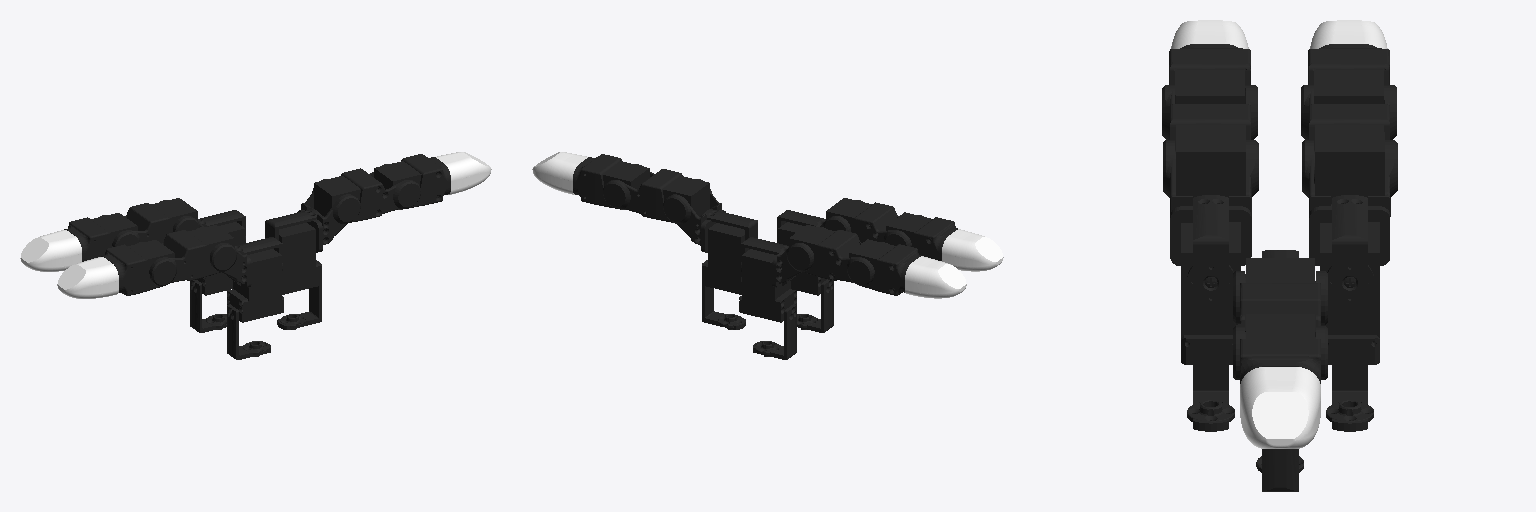
The robot description file, URDF, robot "delto_gripper_3f":
<?xml version="1.0" ?>

<robot name="delto_gripper_3f">

   <material name="silver">
      <color rgba="0.700 0.700 0.700 1.000"/>
   </material>

   <material name="black">
      <color rgba="0.196 0.196 0.196 1.0"/>
   </material>

   <material name="white">
      <color rgba="1.0 1.0 1.0 1.0"/>
   </material>

   <link name="delto_base_link">

      <inertial>
         <origin xyz="0.00045499721796859983 -2.051648304165415e-06 -0.05218562175888181" rpy="5.671320207730568e-06 0.0032948722942074404 -0.00044870150924543735"/>
         <mass value="0.370"/>
         <inertia ixx="0.0009935903471030175" iyy="0.000980251548061173" izz="0.0003178199035240808" ixy="0" ixz="0" iyz="0"/>
      </inertial>

      <visual name="delto_base_link">
         <origin xyz="0.00045499721796859983 -2.051648304165415e-06 -0.05218562175888181" rpy="5.671320207730568e-06 0.0032948722942074404 -0.00044870150924543735"/>
         <geometry>
            <mesh filename="package://delto_3f_description/meshes/delto_base_link.stl"/>
         </geometry>
         <material name="black"/>
      </visual>

      <collision>
         <origin xyz="0.00045499721796859983 -2.051648304165415e-06 -0.05218562175888181" rpy="5.671320207730568e-06 0.0032948722942074404 -0.00044870150924543735"/>
         <geometry>
            <mesh filename="package://delto_3f_description/meshes/delto_base_link.stl"/>
         </geometry>
      </collision>

   </link>


   <link name="F1_01">

      <inertial>
         <origin xyz="0.0003906 3.121e-08 -0.014" rpy= "-0.17662368646091148 -1.9303231388878572e-06 1.5707855116626381"/>
         <mass value="0.061"/>
         <inertia ixx="1.924000000025899e-05" iyy="1.709411627342488e-05" izz="5.9478837263161295e-06" ixy="0" ixz="0" iyz="0"/>
      </inertial>

      <visual name="F1_01">
         <origin xyz="0.0018977016221143523 -1.0017682763976983e-06 -0.022983822146236326" rpy="-0.1443920950720977 1.9855029389503898e-05 1.5709191233325221"/>
         <geometry>
            <mesh filename="package://delto_3f_description/meshes/link_01.stl"/>
         </geometry>
         <material name="black"/>
      </visual>
      
      <collision>
         <origin xyz="0.0018977016221143523 -1.0017682763976983e-06 -0.022983822146236326" rpy="-0.1443920950720977 1.9855029389503898e-05 1.5709191233325221"/>
         <geometry>
            <mesh filename="package://delto_3f_description/meshes/link_01.stl"/>
         </geometry>
      </collision> 

   </link>

   <link name="F1_02">

      <inertial>
         <origin xyz="0.01 3.444e-06 0.016" rpy="-0.0036890516412144943 0.31688564121750695 -0.0027736178951144786"/>
         <mass value="0.025"/>
         <inertia ixx="7.164797732610912e-06" iyy="6.31301833122199e-06" izz="3.274183936167101e-06" ixy="0" ixz="0" iyz="0"/>
      </inertial>

      <visual name="F1_02">
         <origin xyz="0.010322007813576017 0.000267674195662055 0.013590600703218703" rpy="-0.03118104794815292 0.3757385725887219 -0.024334342208719002"/>
         <geometry>
            <mesh filename="package://delto_3f_description/meshes/link_02.stl"/>
         </geometry>
         <material name="black"/>
      </visual>

      <collision>
         <origin xyz="0.010322007813576017 0.000267674195662055 0.013590600703218703" rpy="-0.03118104794815292 0.3757385725887219 -0.024334342208719002"/>
         <geometry>
            <mesh filename="package://delto_3f_description/meshes/link_02.stl"/>
         </geometry>
      </collision>
   </link>

   <link name="F1_03">

      <inertial>
         <origin xyz="0.014 -0.0004527 -3.953e-05" rpy="1.5651066808062148 -0.0008576993469346927 1.5562600280492769"/>
         <mass value="0.051"/>
         <inertia ixx="1.6912201686125405e-05" iyy="1.4940271596370447e-05" izz="6.505526717504149e-06" ixy="0" ixz="0" iyz="0"/>
      </inertial>

      <visual name="link_03">
         <origin xyz="0.019034639558839914 -0.0007611783816217545 0.00015734818842133856" rpy="1.5405533073968862 -0.0023628127138719535 1.5994547590929262"/>
         <geometry>
            <mesh filename="package://delto_3f_description/meshes/link_03.stl"/>
         </geometry>
         <material name="black"/>
      </visual>

      <collision>
         <origin xyz="0.019034639558839914 -0.0007611783816217545 0.00015734818842133856" rpy="1.5405533073968862 -0.0023628127138719535 1.5994547590929262"/>
         <geometry>
            <mesh filename="package://delto_3f_description/meshes/link_03.stl"/>
         </geometry>
      </collision>

   </link>

   <link name="F1_04">
      <inertial>
         <origin xyz="0.012 -0.0002269 -4.676e-05" rpy="1.5668480451228681 -0.0008686188531681349 1.5829731507939977"/>
         <mass value="0.058"/>
         <inertia ixx="1.0860820276783573e-05" iyy="9.902070548178027e-06" izz="5.330109175038405e-06" ixy="0" ixz="0" iyz="0"/>
      </inertial>

      <visual name="link_04">
         <origin xyz="0.011992289866897352 -0.0007726988011287212 -5.201111709052532e-06" rpy="1.5745317514920234 0.003601150001683928 1.6650413701206925"/>
         <geometry>
            <mesh filename="package://delto_3f_description/meshes/link_04.stl"/>
         </geometry>
         <material name="black"/>
      </visual>

      <collision>
         <origin xyz="0.011992289866897352 -0.0007726988011287212 -5.201111709052532e-06" rpy="1.5745317514920234 0.003601150001683928 1.6650413701206925"/>
         <geometry>
            <mesh filename="package://delto_3f_description/meshes/link_04.stl"/>
         </geometry>
      </collision>

   </link>

   <link name="F1_TIP">
      <inertial>
         <origin xyz="0.045 -0.000436 -7.22e-08" rpy="1.5708008179564292 -3.695361794919805e-05 1.5210948927815267"/>
         <mass value="0.013"/>
         <inertia ixx="1.5965708653714455e-06" iyy="1.2999999996018677e-06" izz="9.60129135026688e-07" ixy="0" ixz="0" iyz="0"/>
      </inertial>

      <visual name="link_tip_high">
         <origin xyz="0.044959448417087294 -0.0004226309811080281 2.3018946871860735e-07" rpy="1.5708745579876908 -1.019986385419891e-05 1.5204133624130758"/>
         <geometry>
            <mesh filename="package://delto_3f_description/meshes/link_tip_high.stl"/>
         </geometry>
         <material name="white"/>
      </visual>

      <collision>
         <origin xyz="0.044959448417087294 -0.0004226309811080281 2.3018946871860735e-07" rpy="1.5708745579876908 -1.019986385419891e-05 1.5204133624130758"/>
         <geometry>
            <mesh filename="package://delto_3f_description/meshes/link_tip_high.stl"/>
         </geometry>
      </collision>
   </link>

   <link name="F2_01">
      <inertial>
         <origin xyz="0.0003906 3.121e-08 -0.014" rpy="-0.17662368646091148 -1.9303231388878572e-06 1.5707855116626381"/>
         <mass value="0.061"/>
         <inertia ixx="1.924000000025899e-05" iyy="1.709411627342488e-05" izz="5.9478837263161295e-06" ixy="0" ixz="0" iyz="0"/>
      </inertial>

      <visual name="F2_01">
         <origin xyz="0.0018977016221143523 -1.0017682763976983e-06 -0.022983822146236326" rpy="-0.1443920950720977 1.9855029389503898e-05 1.5709191233325221"/>
         <geometry>
            <mesh filename="package://delto_3f_description/meshes/link_01.stl"/>
         </geometry>
         <material name="black"/>
      </visual>

      <collision>
         <origin xyz="0.0018977016221143523 -1.0017682763976983e-06 -0.022983822146236326" rpy="-0.1443920950720977 1.9855029389503898e-05 1.5709191233325221"/>
         <geometry>
            <mesh filename="package://delto_3f_description/meshes/link_01.stl"/>
         </geometry>
      </collision>

   </link>

   <link name="F2_02">
      <inertial>
         <origin xyz="0.01 3.444e-06 0.016" rpy="-0.0036890516412144943 0.31688564121750695 -0.0027736178951144786"/>
         <mass value="0.025"/>
         <inertia ixx="7.164797732610912e-06" iyy="6.31301833122199e-06" izz="3.274183936167101e-06" ixy="0" ixz="0" iyz="0"/>
      </inertial>

      <visual name="link_02">
         <origin xyz="0.010322007813576017 0.000267674195662055 0.013590600703218703" rpy="-0.03118104794815292 0.3757385725887219 -0.024334342208719002"/>
         <geometry>
            <mesh filename="package://delto_3f_description/meshes/link_02.stl"/>
         </geometry>
         <material name="black"/>
      </visual>

      <collision>
         <origin xyz="0.010322007813576017 0.000267674195662055 0.013590600703218703" rpy="-0.03118104794815292 0.3757385725887219 -0.024334342208719002"/>
         <geometry>
            <mesh filename="package://delto_3f_description/meshes/link_02.stl"/>
         </geometry>
      </collision>

   </link>

   <link name="F2_03">
   
      <inertial>
         <origin xyz="0.014 -0.0004527 -3.953e-05" rpy="1.5651066808062148 -0.0008576993469346927 1.5562600280492769"/>
         <mass value="0.051"/>
         <inertia ixx="1.6912201686125405e-05" iyy="1.4940271596370447e-05" izz="6.505526717504149e-06" ixy="0" ixz="0" iyz="0"/>
      </inertial>

      <visual name="link_03">
         <origin xyz="0.019034639558839914 -0.0007611783816217545 0.00015734818842133856" rpy="1.5405533073968862 -0.0023628127138719535 1.5994547590929262"/>
         <geometry>
            <mesh filename="package://delto_3f_description/meshes/link_03.stl"/>
         </geometry>
         <material name="black"/>
      </visual>


      <collision>
         <origin xyz="0.019034639558839914 -0.0007611783816217545 0.00015734818842133856" rpy="1.5405533073968862 -0.0023628127138719535 1.5994547590929262"/>
         <geometry>
            <mesh filename="package://delto_3f_description/meshes/link_03.stl"/>
         </geometry>
      </collision>

   </link>

   <link name="F2_04">
      <inertial>
         <origin xyz="0.012 -0.0002269 -4.676e-05" rpy="1.5668480451228681 -0.0008686188531681349 1.5829731507939977"/>
         <mass value="0.058"/>
         <inertia ixx="1.0860820276783573e-05" iyy="9.902070548178027e-06" izz="5.330109175038405e-06" ixy="0" ixz="0" iyz="0"/>
      </inertial>

      <visual name="link_04">
         <origin xyz="0.011992289866897352 -0.0007726988011287212 -5.201111709052532e-06" rpy="1.5745317514920234 0.003601150001683928 1.6650413701206925"/>
         <geometry>
            <mesh filename="package://delto_3f_description/meshes/link_04.stl"/>
         </geometry>
         <material name="black"/>
      </visual>

      <collision>
         <origin xyz="0.011992289866897352 -0.0007726988011287212 -5.201111709052532e-06" rpy="1.5745317514920234 0.003601150001683928 1.6650413701206925"/>
         <geometry>
            <mesh filename="package://delto_3f_description/meshes/link_04.stl"/>
         </geometry>
      </collision>
   </link>


   <link name="F2_TIP">
      <inertial>
         <origin xyz="0.045 -0.000436 -7.22e-08" rpy="1.5708008179564292 -3.695361794919805e-05 1.5210948927815267"/>
         <mass value="0.013"/>
         <inertia ixx="1.5965708653714455e-06" iyy="1.2999999996018677e-06" izz="9.60129135026688e-07" ixy="0" ixz="0" iyz="0"/>
      </inertial>

      <visual name="link_tip_high">
         <origin xyz="0.044959448417087294 -0.0004226309811080281 2.3018946871860735e-07" rpy="1.5708745579876908 -1.019986385419891e-05 1.5204133624130758"/>
         <geometry>
            <mesh filename="package://delto_3f_description/meshes/link_tip_high.stl"/>
         </geometry>
         <material name="white"/>
      </visual>

      <collision>
      <origin xyz="0.044959448417087294 -0.0004226309811080281 2.3018946871860735e-07" rpy="1.5708745579876908 -1.019986385419891e-05 1.5204133624130758"/>
         <geometry>
            <mesh filename="package://delto_3f_description/meshes/link_tip_high.stl"/>
         </geometry>
      </collision>
   </link>

   <link name="F3_01">
      <inertial>
         <origin xyz="0.0003906 3.121e-08 -0.014" rpy="-0.17662368646091148 -1.9303231388878572e-06 1.5707855116626381"/>
         <mass value="0.061"/>
         <inertia ixx="1.924000000025899e-05" iyy="1.709411627342488e-05" izz="5.9478837263161295e-06" ixy="0" ixz="0" iyz="0"/>
      </inertial>

      <visual name="link_01">
         <origin xyz="0.0018977016221143523 -1.0017682763976983e-06 -0.022983822146236326" rpy="-0.1443920950720977 1.9855029389503898e-05 1.5709191233325221"/>
         <geometry>
            <mesh filename="package://delto_3f_description/meshes/link_01.stl"/>
         </geometry>
         <material name="black"/>
      </visual>

      <collision>
      <origin xyz="0.0018977016221143523 -1.0017682763976983e-06 -0.022983822146236326" rpy="-0.1443920950720977 1.9855029389503898e-05 1.5709191233325221"/>
         <geometry>
            <mesh filename="package://delto_3f_description/meshes/link_01.stl"/>
         </geometry>
      </collision>
   </link>
   
   <link name="F3_02">
      <inertial>
         <origin xyz="0.01 3.444e-06 0.016" rpy="-0.0036890516412144943 0.31688564121750695 -0.0027736178951144786"/>
         <mass value="0.025"/>
         <inertia ixx="7.164797732610912e-06" iyy="6.31301833122199e-06" izz="3.274183936167101e-06" ixy="0" ixz="0" iyz="0"/>
      </inertial>
      <visual name="link_02">
         <origin xyz="0.010322007813576017 0.000267674195662055 0.013590600703218703" rpy="-0.03118104794815292 0.3757385725887219 -0.024334342208719002"/>
         <geometry>
            <mesh filename="package://delto_3f_description/meshes/link_02.stl"/>
         </geometry>
         <material name="black"/>
      </visual>

      <collision>
         <origin xyz="0.010322007813576017 0.000267674195662055 0.013590600703218703" rpy="-0.03118104794815292 0.3757385725887219 -0.024334342208719002"/>
         <geometry>
            <mesh filename="package://delto_3f_description/meshes/link_02.stl"/>
         </geometry>
      </collision>

   </link>

   <link name="F3_03">
      <inertial>
         <origin xyz="0.014 -0.0004527 -3.953e-05" rpy="1.5651066808062148 -0.0008576993469346927 1.5562600280492769"/>
         <mass value="0.051"/>
         <inertia ixx="1.6912201686125405e-05" iyy="1.4940271596370447e-05" izz="6.505526717504149e-06" ixy="0" ixz="0" iyz="0"/>
      </inertial>
      <visual name="link_03">
         <origin xyz="0.019034639558839914 -0.0007611783816217545 0.00015734818842133856" rpy="1.5405533073968862 -0.0023628127138719535 1.5994547590929262"/>
         <geometry>
            <mesh filename="package://delto_3f_description/meshes/link_03.stl"/>
         </geometry>
         <material name="black"/>
      </visual>

      <collision>
         <origin xyz="0.019034639558839914 -0.0007611783816217545 0.00015734818842133856" rpy="1.5405533073968862 -0.0023628127138719535 1.5994547590929262"/>
         <geometry>
            <mesh filename="package://delto_3f_description/meshes/link_03.stl"/>
         </geometry>
      </collision>

   </link>

   <link name="F3_04">
      <inertial>
         <origin xyz="0.012 -0.0002269 -4.676e-05" rpy="1.5668480451228681 -0.0008686188531681349 1.5829731507939977"/>
         <mass value="0.058"/>
         <inertia ixx="1.0860820276783573e-05" iyy="9.902070548178027e-06" izz="5.330109175038405e-06" ixy="0" ixz="0" iyz="0"/>
      </inertial>
      <visual name="link_04">
         <origin xyz="0.011992289866897352 -0.0007726988011287212 -5.201111709052532e-06" rpy="1.5745317514920234 0.003601150001683928 1.6650413701206925"/>
         <geometry>
            <mesh filename="package://delto_3f_description/meshes/link_04.stl"/>
         </geometry>
         <material name="black"/>
      </visual>

      <collision>
      <origin xyz="0.011992289866897352 -0.0007726988011287212 -5.201111709052532e-06" rpy="1.5745317514920234 0.003601150001683928 1.6650413701206925"/>
         <geometry>
            <mesh filename="package://delto_3f_description/meshes/link_04.stl"/>
         </geometry>
      </collision>

   </link>


   <link name="F3_TIP">
      <inertial>
         <origin xyz="0.045 -0.000436 -7.22e-08" rpy="1.5708008179564292 -3.695361794919805e-05 1.5210948927815267"/>
         <mass value="0.013"/>
         <inertia ixx="1.5965708653714455e-06" iyy="1.2999999996018677e-06" izz="9.60129135026688e-07" ixy="0" ixz="0" iyz="0"/>
      </inertial>
      <visual name="link_tip_high">
         <origin xyz="0.044959448417087294 -0.0004226309811080281 2.3018946871860735e-07" rpy="1.5708745579876908 -1.019986385419891e-05 1.5204133624130758"/>
         <geometry>
            <mesh filename="package://delto_3f_description/meshes/link_tip_high.stl"/>
         </geometry>
         <material name="white"/>
      </visual>

      <collision>
         <origin xyz="0.044959448417087294 -0.0004226309811080281 2.3018946871860735e-07" rpy="1.5708745579876908 -1.019986385419891e-05 1.5204133624130758"/>
         <geometry>
            <mesh filename="package://delto_3f_description/meshes/link_tip_high.stl"/>
         </geometry>
      </collision>

   </link>

   <!--Joint -->

   <joint name = "F1M1" type = "revolute">
      <origin xyz="0.0265 0.0 0.0" rpy="0 0 0"/>
      <parent link="delto_base_link"/>
      <child link="F1_01"/>
      <axis xyz="0.0 0.0 1.0"/>
      <limit effort="10.0" velocity="5.0" lower="-1.0472" upper="1.0472" />
      <dynamics damping="1.1" friction="1.1"/>
   </joint>

   <joint name = "F1M2" type = "revolute">
      <origin xyz="0.0 0.0 0.0" rpy="-3.1415926207728213 -1.570796290294655 0.0"/>
      <parent link="F1_01"/>
      <child link="F1_02"/>
      <axis xyz="0.0 0.0 1.0"/>
      <limit effort="10.0" velocity="5.0" lower="-1.76278" upper="1.76278" />
      <dynamics damping="1.1" friction="1.1"/>
   </joint>

   <joint name = "F1M3" type = "revolute">
      <origin xyz="0.02022 0.0 0.03136" rpy="-1.5707963295583207 -1.5707963267948966 0.0"/>
      <parent link="F1_02"/>
      <child link="F1_03"/>
      <axis xyz="0.0 0.0 1.0"/>
      <limit effort="10.0" velocity="5.0" lower="-0.15708" upper="2.53073" />
      <dynamics damping="1.1" friction="1.1"/>
   </joint>

   <joint name = "F1M4" type = "revolute">
      <origin xyz="0.0434 0.0 0.0" rpy="0 0 0"/>
      <parent link="F1_03"/>
      <child link="F1_04"/>
      <axis xyz="0.0 0.0 1.0"/>
      <limit effort="10.0" velocity="5.0" lower="-0.226893" upper="2.02458"/>
      <dynamics damping="1.1" friction="1.1"/>
   </joint>

   <joint name = "TIP1" type="fixed">
      <origin xyz="0.0 0.0 0.0" rpy="0 0 0"/>
      <parent link="F1_04"/>
      <child link="F1_TIP"/>
   </joint>

   <!-- FINGER 2-->

   <joint name = "F2M1" type = "revolute">
      <origin xyz="-0.01334 0.023 0.0" rpy="0 0 -3.14"/>
      <parent link="delto_base_link"/>
      <child link="F2_01"/>
      <axis xyz="0.0 0.0 1.0"/>
      <limit effort="10.0" velocity="5.0" lower="-1.91986" upper="0.139626" />
      <dynamics damping="1.1" friction="1.1"/>
   </joint>

   <joint name = "F2M2" type = "revolute">
      <origin xyz="0.0 0.0 0.0" rpy="-3.14 -1.57 0"/>
      <parent link="F2_01"/>
      <child link="F2_02"/>
      <axis xyz="0.0 0.0 1.0"/>
      <limit effort="10.0" velocity="5.0" lower="-1.76278" upper="1.76278" />
      <dynamics damping="1.1" friction="1.1"/>
   </joint>

   <joint name = "F2M3" type = "revolute">
      <origin xyz="0.02022 0.0 0.03136" rpy="-1.57 -1.57 0"/>
      <parent link="F2_02"/>
      <child link="F2_03"/>
      <axis xyz="0.0 0.0 1.0"/>
      <limit effort="10.0" velocity="5.0" lower="-0.15708" upper="2.53073" />
      <dynamics damping="1.1" friction="1.1"/>
   </joint>

   <joint name = "F2M4" type = "revolute">
      <origin xyz="0.0434 0.0 0.0" rpy="0 0 0"/>
      <parent link="F2_03"/>
      <child link="F2_04"/>
      <axis xyz="0.0434 0.0 1.0"/>
      <limit effort="10.0" velocity="5.0" lower="-0.226893" upper="2.02458" />
      <dynamics damping="1.1" friction="1.1"/>
   </joint>

   <joint name = "TIP2" type="fixed">
      <origin xyz="0.0 0.0 0.0" rpy="0 0 0"/>
      <parent link="F2_04"/>
      <child link="F2_TIP"/>
   </joint>

   <!-- FINGER 3-->   

   <joint name = "F3M1" type = "revolute">
      <origin xyz="-0.01334 -0.023 0.0" rpy="0 0 -3.14"/>
      <parent link="delto_base_link"/>
      <child link="F3_01"/>
      <axis xyz=".0 0.0 1.0"/>
      <limit effort="10.0" velocity="5.0" lower="-0.0872665" upper="2.00713" />
      <dynamics damping="1.1" friction="1.1"/>
   </joint>

   <joint name = "F3M2" type = "revolute">
      <origin xyz="0.0 0.0 0.0" rpy="-3.14 -1.57 0"/>
      <parent link="F3_01"/>
      <child link="F3_02"/>
      <axis xyz="0.0 0.0 1.0"/>
      <limit effort="10.0" velocity="5.0" lower="-1.76278" upper="1.76278" />
      <dynamics damping="1.1" friction="1.1"/>
   </joint>

   <joint name = "F3M3" type = "revolute">
      <origin xyz="0.02022 0.0 0.03136" rpy="-1.57 -1.57 0"/>
      <parent link="F3_02"/>
      <child link="F3_03"/>
      <axis xyz="0.0 0.0 1.0"/>
      <limit effort="10.0" velocity="5.0" lower="-0.15708" upper="2.53073" />
      <dynamics damping="1.1" friction="1.1"/>
   </joint>

   <joint name = "F3M4" type = "revolute">
      <origin xyz="0.0434 0.0 0.0" rpy="0 0 0"/>
      <parent link="F3_03"/>
      <child link="F3_04"/>
      <axis xyz="0.0 0.0 1.0"/>
      <limit effort="10.0" velocity="5.0" lower="-0.226893" upper="2.02458" />
      <dynamics damping="1.1" friction="1.1"/>
   </joint>

   <joint name = "TIP3" type="fixed">
      <origin xyz="0.0 0.0 0.0" rpy="0 0 0"/>
      <parent link="F3_04"/>
      <child link="F3_TIP"/>
   </joint>

</robot>

--- What the picture shows (computed from the rendered views, not written in the file) ---
The picture shows the robot from 3 angles, left to right: view 1: azimuth 30°, elevation 25°; view 2: azimuth 150°, elevation 25°; view 3: azimuth 270°, elevation 25°; orthographic projection.
Model delto_gripper_3f with 16 links and 15 joints (12 revolute, 3 fixed), rooted at delto_base_link, posed every joint at zero.
Links seen in each view (by area): view 1: F3_01, F1_01, F1_03, F3_03, F1_04, F1_02, F2_03, F3_04, F3_TIP, F2_TIP, F2_01, F2_04 (+3 smaller); view 2: F2_01, F1_03, F1_01, F2_03, F1_04, F1_02, F2_04, F3_03, F2_TIP, F3_TIP, F3_01, F2_02 (+3 smaller); view 3: F2_03, F3_03, F3_02, F2_02, F3_01, F2_01, F1_TIP, F1_03, F2_04, F3_04, F1_04, F1_01 (+3 smaller).
Boxes of the visible links, x1,y1,x2,y2 form: F3_01: (227, 249, 283, 359); F1_01: (277, 223, 321, 329); F1_03: (314, 164, 420, 222); F3_03: (137, 225, 234, 285); F1_04: (374, 154, 450, 209); F1_02: (265, 179, 360, 252); F2_03: (100, 198, 197, 246); F3_04: (101, 240, 174, 295); F3_TIP: (57, 257, 118, 298); F2_TIP: (20, 230, 81, 271); F2_01: (190, 222, 244, 332); F2_04: (64, 213, 137, 261); F2_01: (739, 249, 796, 359); F1_03: (603, 164, 709, 222); F1_01: (702, 223, 745, 329); F2_03: (789, 225, 887, 285); F1_04: (573, 154, 649, 209); F1_02: (663, 179, 757, 252); F2_04: (849, 239, 920, 295); F3_03: (826, 198, 923, 246); F2_TIP: (905, 256, 966, 298); F3_TIP: (942, 229, 1003, 271); F3_01: (778, 222, 833, 332); F2_02: (740, 227, 825, 287); F2_03: (1301, 85, 1396, 197); F3_03: (1162, 85, 1257, 197); F3_02: (1163, 140, 1258, 308); F2_02: (1302, 140, 1397, 308); F3_01: (1181, 222, 1240, 431); F2_01: (1320, 222, 1379, 431); F1_TIP: (1240, 367, 1320, 448); F1_03: (1233, 258, 1327, 379); F2_04: (1308, 44, 1389, 103); F3_04: (1169, 44, 1250, 103); F1_04: (1240, 314, 1320, 383); F1_01: (1256, 449, 1303, 491).
Size in the robot's own frame: 0.3204 by 0.0779 by 0.0919 metres.
15 mesh visuals loaded from 6 distinct referenced files (5 binary STL); not drawn: 1 (reference not matched to a file when rendering).